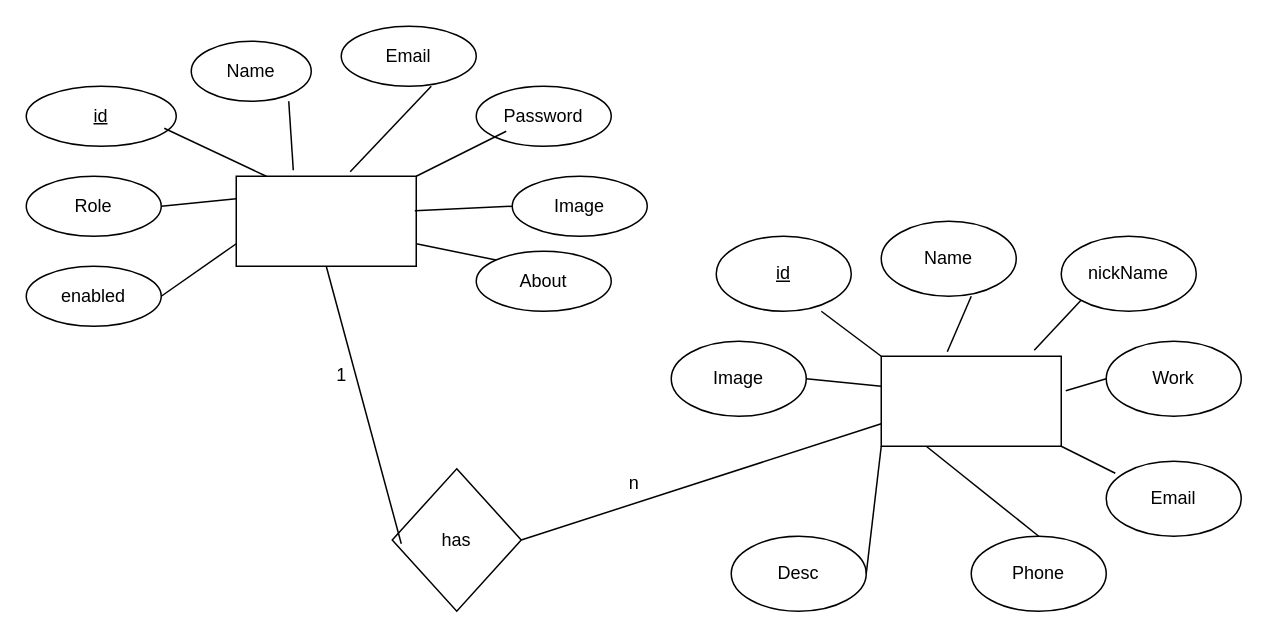
The diagram is 1268 pixels wide and 638 high, and some of its shapes have lost their labels. Here are the shapes that lost their labels. From the top down, the box of each, then its label:
(235, 175, 416, 266): USER
(880, 355, 1061, 446): CONTACT
